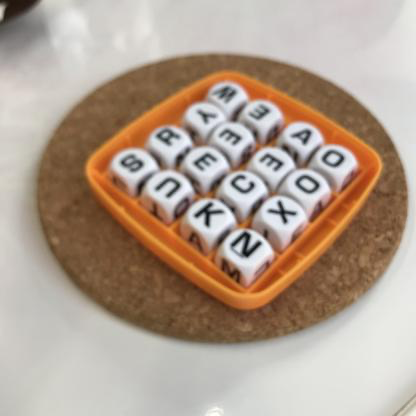a: (289, 125, 316, 149)
c: (230, 173, 260, 198)
e: (189, 148, 222, 175), (246, 101, 279, 125), (260, 150, 286, 175), (222, 124, 245, 148)
k: (190, 199, 228, 229)
n: (227, 227, 266, 266)
o: (319, 147, 355, 175), (293, 171, 323, 200)
r: (153, 126, 183, 149)
s: (114, 147, 147, 176)
u: (155, 175, 184, 203)
w: (210, 82, 242, 107)
x: (268, 199, 302, 230)
y: (192, 104, 219, 130)
